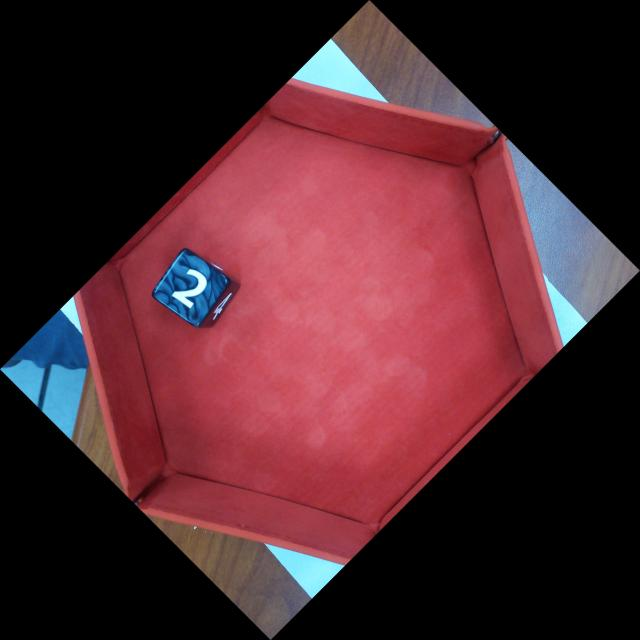dice: (151, 249, 230, 328)
